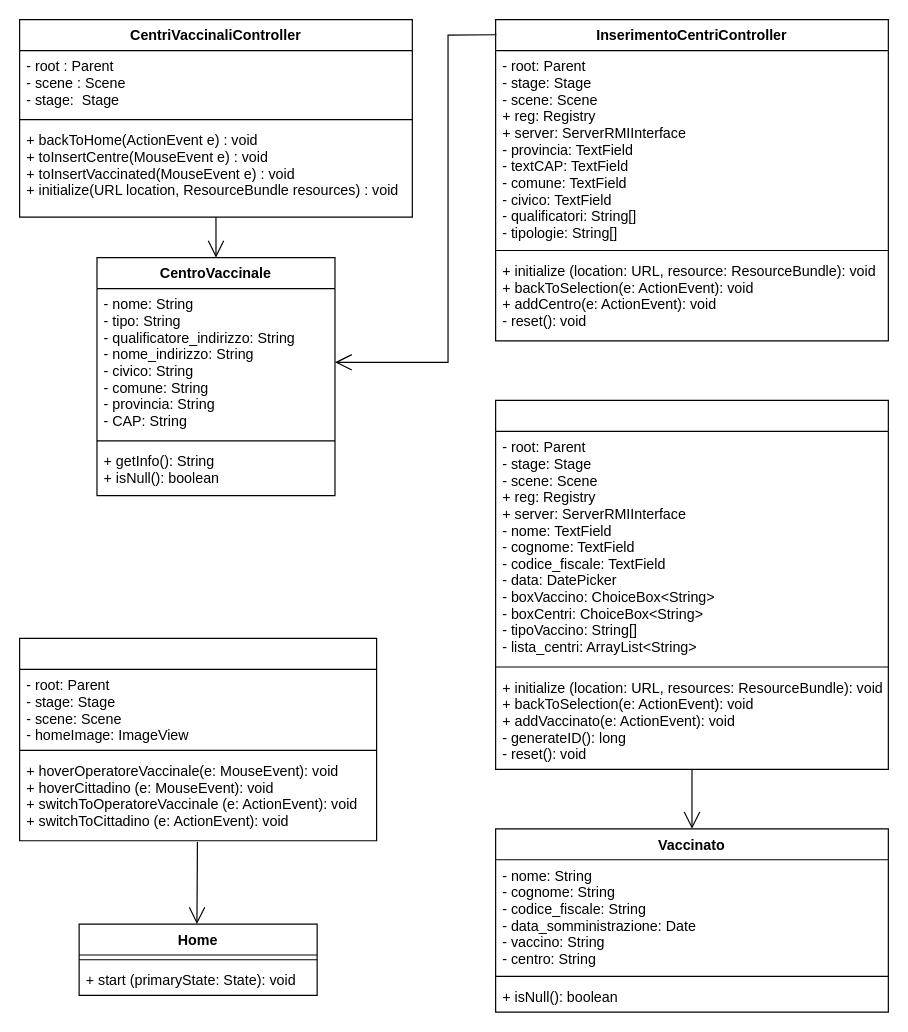
This 908x1032 diagram has some shape labels left out. The box of each missing label's shape, as (x1, y1, x2, y2) in pixels:
HomeController: (18, 637, 377, 841)
InserimentoVaccinatiController: (494, 399, 888, 769)
